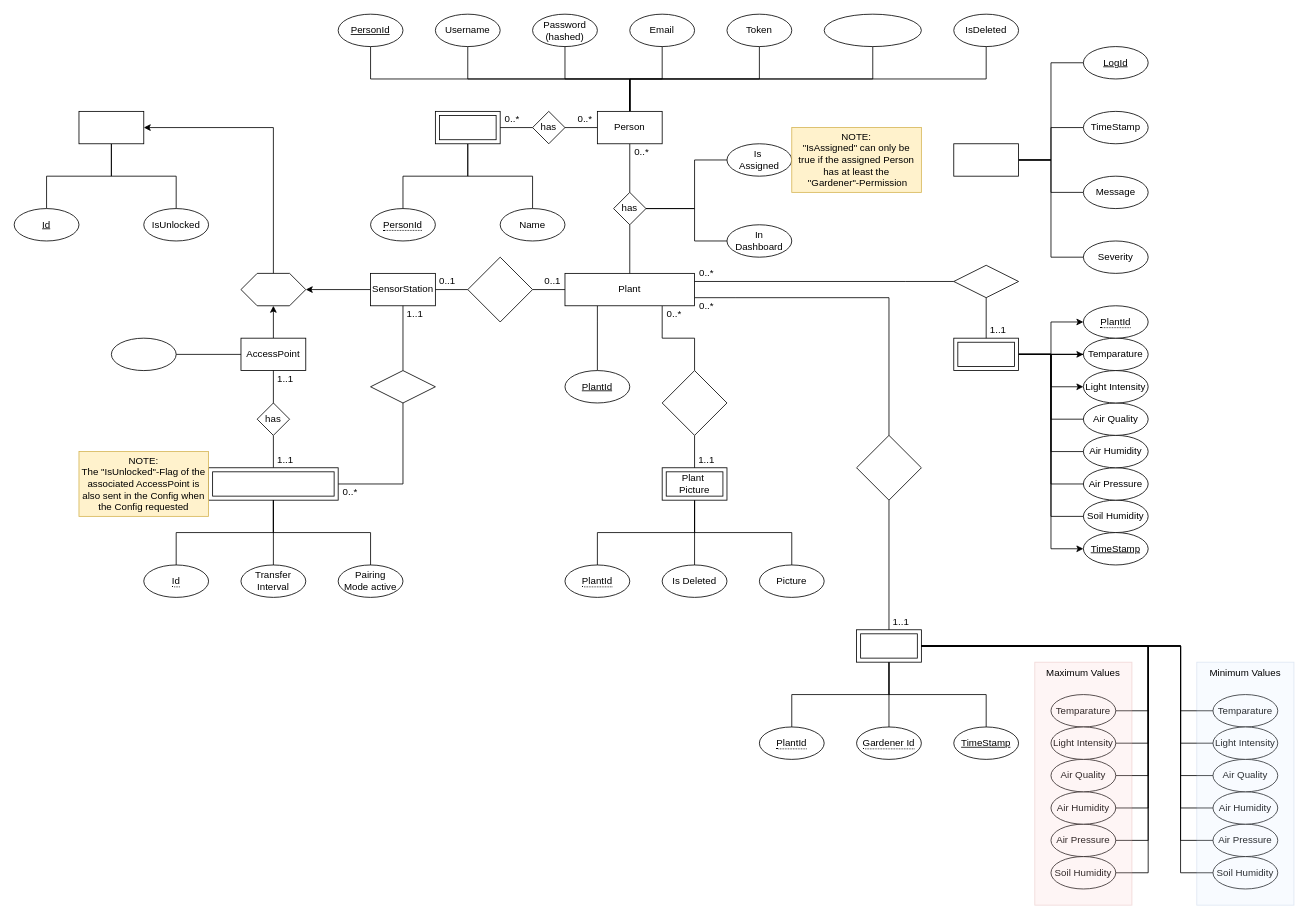
The diagram is 1308 pixels wide and 919 high, and some of its shapes have lost their labels. The shapes that lost their labels are listed below. From the top down, each one's box as (x1, y1, x2, y2) in pixels, then its label:
(823, 13, 921, 47): Token Creation DateTime
(78, 111, 144, 144): Device
(435, 111, 500, 144): Permission
(953, 143, 1019, 176): Log
(240, 273, 306, 306): isa
(467, 256, 533, 322): currently mounted on
(953, 264, 1019, 298): measured
(111, 337, 176, 371): Room Name
(953, 337, 1019, 371): Sensor Data
(370, 370, 435, 403): connected
(661, 370, 727, 435): pictures taken of
(208, 467, 338, 500): AccessPoint Configuration
(856, 435, 921, 500): set by assigned Gardener
(856, 629, 921, 662): Sensor Limits
